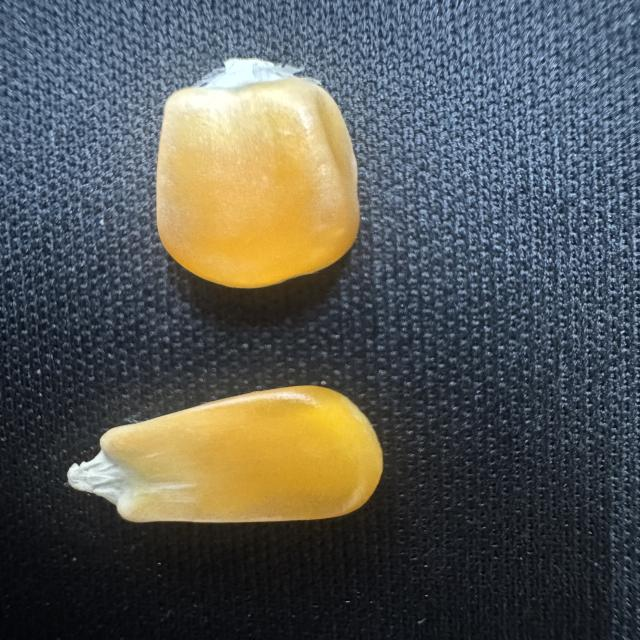Good-Seed: (146, 48, 367, 300), (64, 377, 406, 532)
